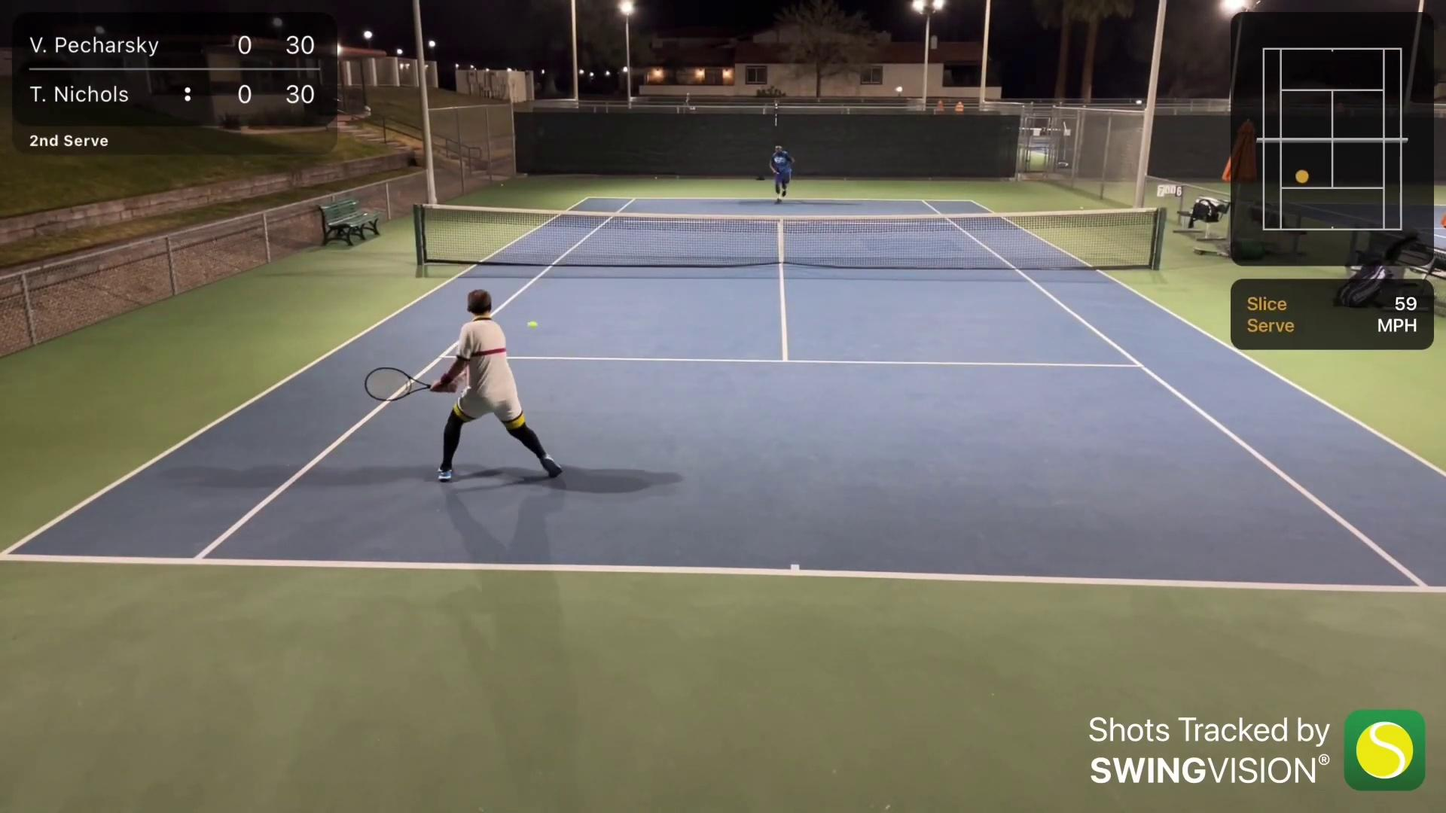ball: (523, 317, 539, 333), (499, 183, 504, 189), (653, 175, 657, 181)
